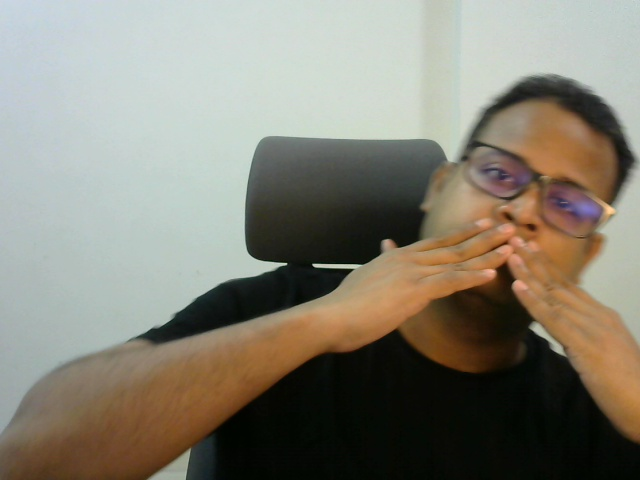ThankYou: (331, 220, 640, 438)
